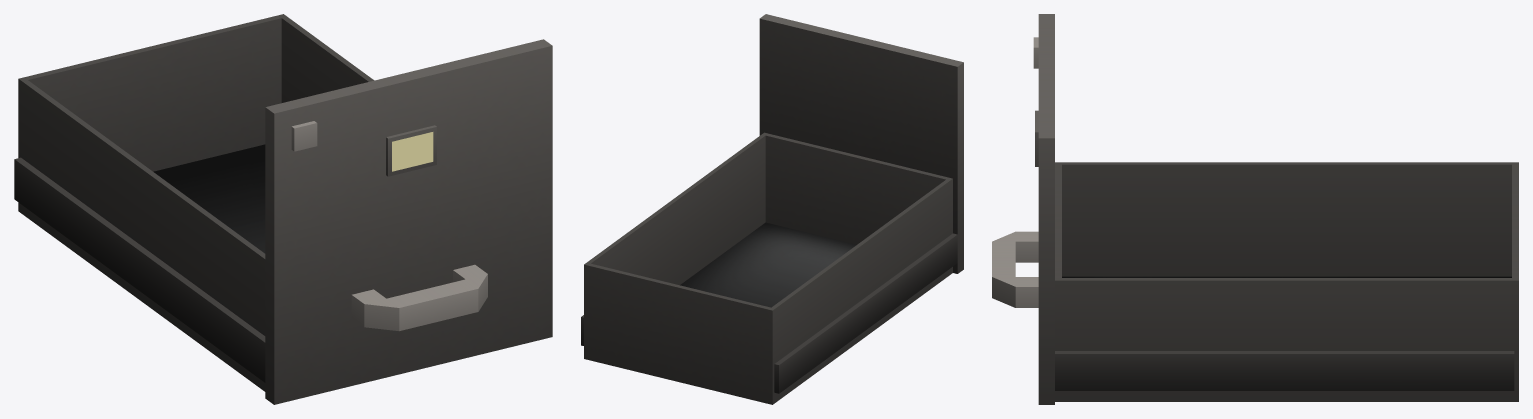
The model's file is FilingCabinet_DrawerKeyLock.fbx.
The picture shows the model from 3 angles, left to right: view 1: azimuth 30°, elevation 25°; view 2: azimuth 150°, elevation 25°; view 3: azimuth 270°, elevation 25°; orthographic projection. The views are drawn at different scales.
Visible parts, largest first — view 1: FilingCabinet_DrawerKeyLock; view 2: FilingCabinet_DrawerKeyLock; view 3: FilingCabinet_DrawerKeyLock.
Boxes of the visible parts, <box> form: FilingCabinet_DrawerKeyLock: <box>14,14,552,404</box>; FilingCabinet_DrawerKeyLock: <box>581,14,963,404</box>; FilingCabinet_DrawerKeyLock: <box>992,14,1518,404</box>.
Size of the model in its own units: 33.38 by 33.38 by 59.78.
